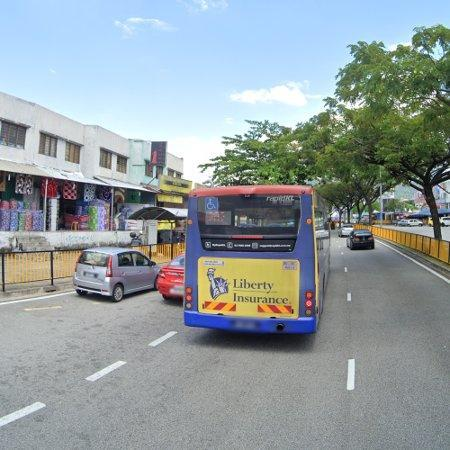buses: (185, 185, 331, 333)
